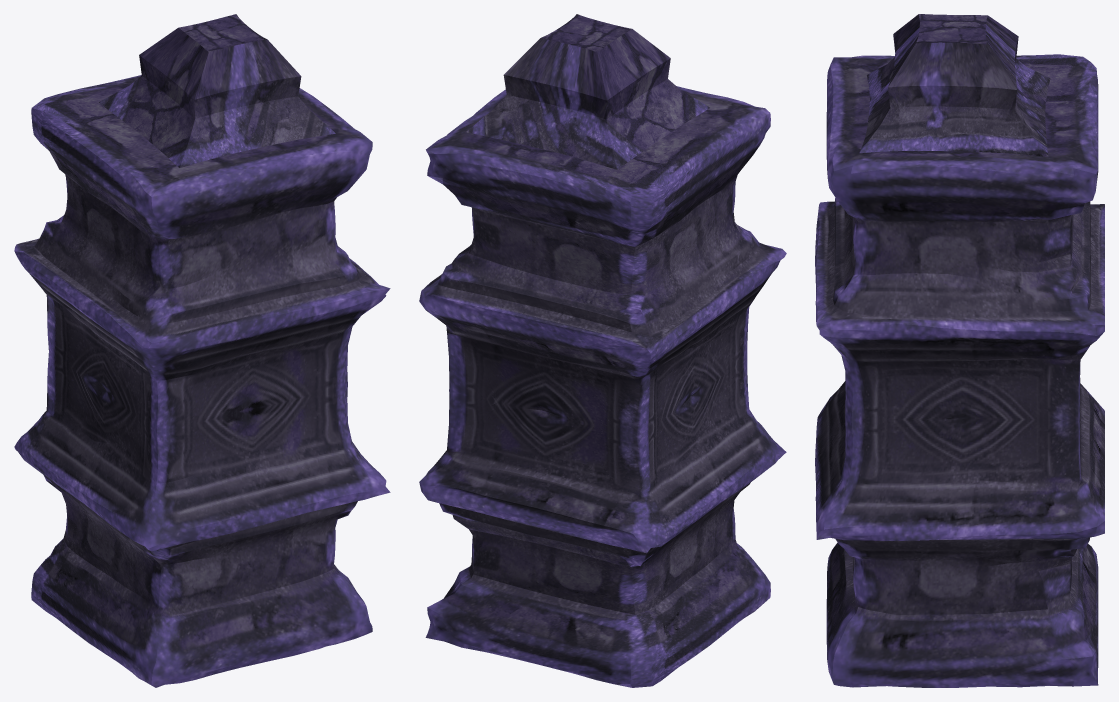
The model's file is Pillar1B.fbx.
3 renders of one model, left to right at view 1: azimuth 30°, elevation 25°; view 2: azimuth 150°, elevation 25°; view 3: azimuth 270°, elevation 25°, orthographic. The views are drawn at different scales.
Visible parts, largest first — view 1: Pillar1B; view 2: Pillar1B; view 3: Pillar1B.
Part boxes in pixels (x1,y1,x2,y2): Pillar1B: [14, 14, 390, 687]; Pillar1B: [419, 14, 786, 687]; Pillar1B: [815, 14, 1104, 687].
Size of the model in its own units: 1.17 by 2.69 by 1.15.
1 material, 1 textured.
